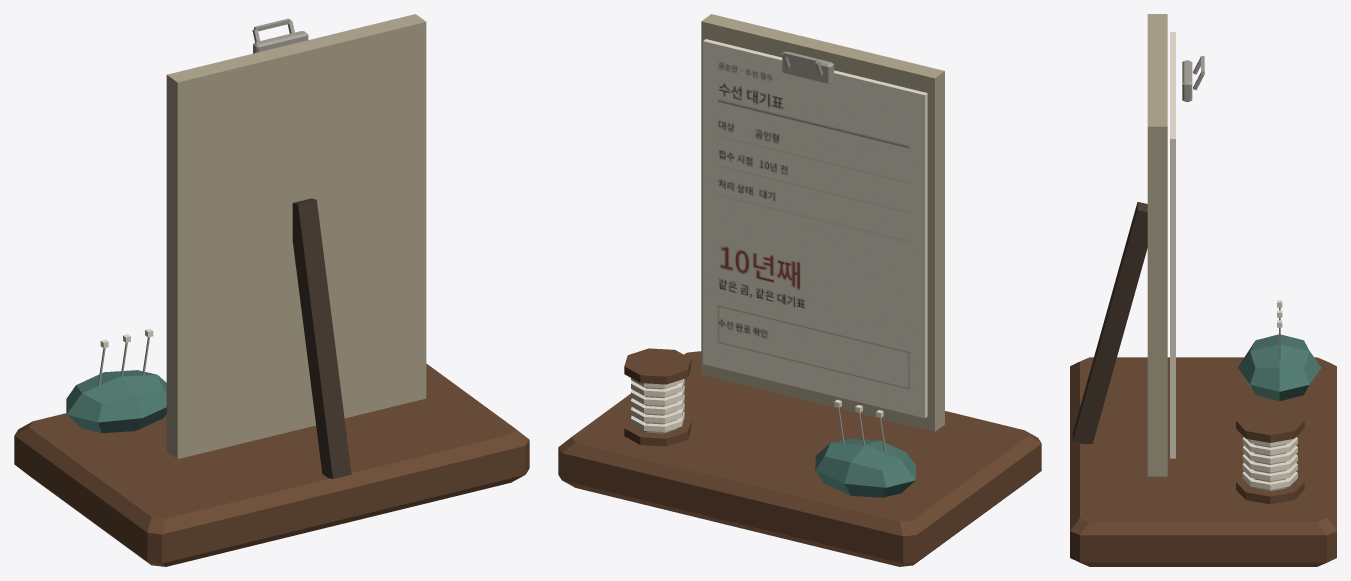
File: C06_Ten_Year_Repair_Ticket.fbx
3 views of the same model, side by side, from view 1: azimuth 30°, elevation 25°; view 2: azimuth 150°, elevation 25°; view 3: azimuth 270°, elevation 25° (orthographic). The views are drawn at different scales.
Parts seen in each view (by area): view 1: Repair_Stand, Sewing_Props, Ticket_Clip; view 2: Front_Repair_Ticket, Repair_Stand, Sewing_Props, Ticket_Clip; view 3: Repair_Stand, Sewing_Props, Front_Repair_Ticket, Ticket_Clip.
Boxes of the visible parts, box(x1,y1,x2,y2) form: Repair_Stand: box(14, 14, 529, 566); Sewing_Props: box(66, 329, 166, 433); Ticket_Clip: box(252, 18, 308, 53); Front_Repair_Ticket: box(703, 39, 927, 418); Repair_Stand: box(558, 14, 1041, 566); Sewing_Props: box(624, 348, 915, 497); Ticket_Clip: box(781, 51, 833, 84); Repair_Stand: box(1070, 14, 1336, 566); Sewing_Props: box(1236, 300, 1321, 504); Front_Repair_Ticket: box(1170, 32, 1175, 458); Ticket_Clip: box(1182, 56, 1204, 101).
Bounding box in the file's own units: 0.43 × 0.4871 × 0.28.
7 materials, 1 textured.
